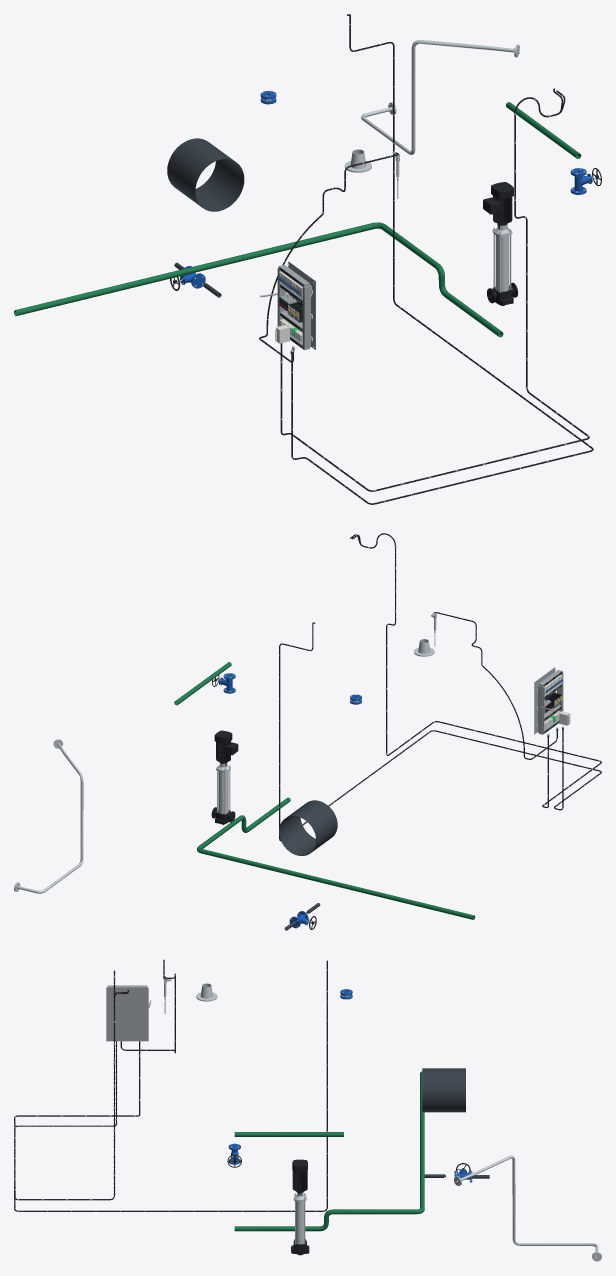
3 renders of one model, top to bottom at view 1: azimuth 30°, elevation 25°; view 2: azimuth 150°, elevation 25°; view 3: azimuth 270°, elevation 25°, orthographic. The views are drawn at different scales.
Visible parts, largest first — view 1: flue_spacer / dark, suction_common / green, cabinet_interior / cabinet_interior_0.npz, mod_eco_drive_cable / black, trap_gap_to_bdv / steel, wiring_pressure_switch_3 / black, wiring_pressure_transmitter / black, pump_2 CAD solid 15, pump_2 CAD solid 2; view 2: flue_spacer / dark, suction_common / green, cabinet_interior / cabinet_interior_0.npz, mod_eco_drive_cable / black, wiring_pressure_switch_3 / black, trap_gap_to_bdv / steel, wiring_pressure_transmitter / black, pump_2 CAD solid 15; view 3: cabinet_interior / cabinet_interior_0.npz, flue_spacer / dark, suction_common / green, mod_eco_drive_cable / black, trap_gap_to_bdv / steel, wiring_pressure_transmitter / black, wiring_pressure_switch_3 / black, pump_delivery / green, pump_2 CAD solid 15.
Part boxes in pixels (x1,y1,x2,y2): flue_spacer / dark: [167, 138, 244, 211]; suction_common / green: [14, 222, 503, 337]; cabinet_interior / cabinet_interior_0.npz: [260, 261, 315, 349]; mod_eco_drive_cable / black: [291, 14, 593, 504]; trap_gap_to_bdv / steel: [361, 40, 519, 154]; wiring_pressure_switch_3 / black: [280, 90, 589, 491]; wiring_pressure_transmitter / black: [281, 88, 589, 491]; pump_2 CAD solid 15: [483, 182, 513, 224]; pump_2 CAD solid 2: [495, 235, 509, 291]; flue_spacer / dark: [279, 800, 337, 855]; suction_common / green: [197, 797, 475, 919]; cabinet_interior / cabinet_interior_0.npz: [534, 667, 563, 734]; mod_eco_drive_cable / black: [279, 622, 601, 841]; wiring_pressure_switch_3 / black: [350, 533, 601, 807]; trap_gap_to_bdv / steel: [14, 739, 83, 893]; wiring_pressure_transmitter / black: [351, 533, 601, 807]; pump_2 CAD solid 15: [214, 730, 238, 762]; cabinet_interior / cabinet_interior_0.npz: [106, 985, 151, 1041]; flue_spacer / dark: [422, 1068, 465, 1112]; suction_common / green: [234, 1071, 424, 1231]; mod_eco_drive_cable / black: [14, 960, 327, 1211]; trap_gap_to_bdv / steel: [454, 1155, 601, 1261]; wiring_pressure_transmitter / black: [14, 971, 139, 1200]; wiring_pressure_switch_3 / black: [14, 970, 140, 1200]; pump_delivery / green: [234, 1132, 343, 1136]; pump_2 CAD solid 15: [292, 1159, 307, 1192].
Size of the model in its own units: 5.44 by 3.2 by 6.74.
